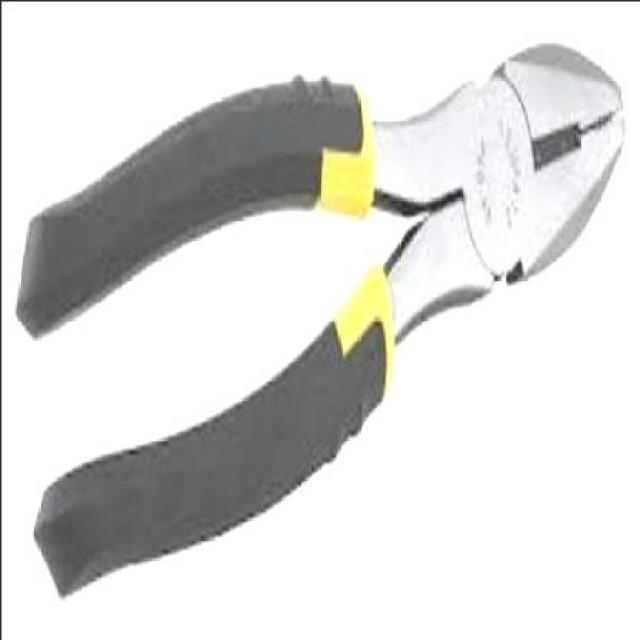pliers: (6, 29, 637, 614)
